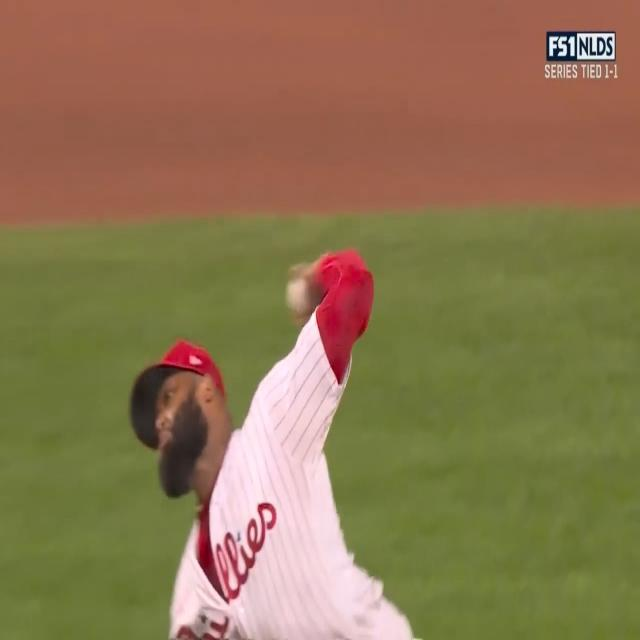baseball: (284, 274, 309, 314)
